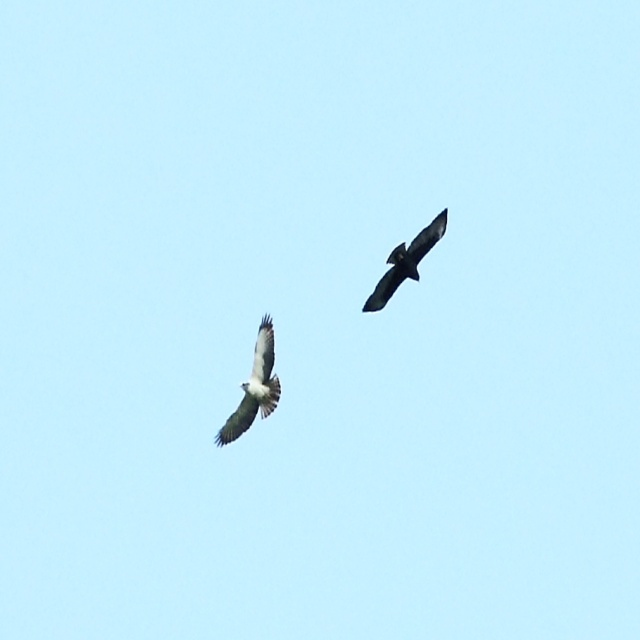Eagle: (215, 306, 285, 453), (357, 203, 447, 312)
